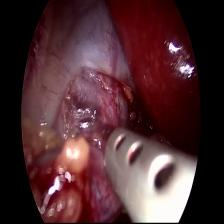Irrigator: (104, 123, 198, 224)
